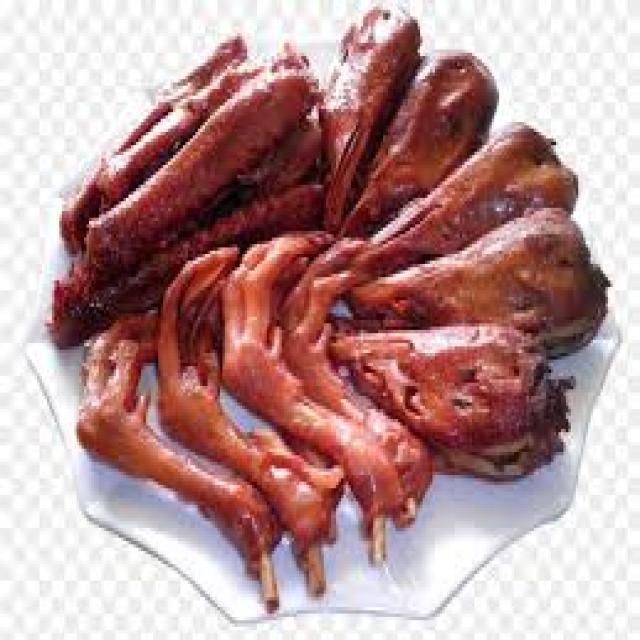food_waste: (47, 7, 605, 607)
